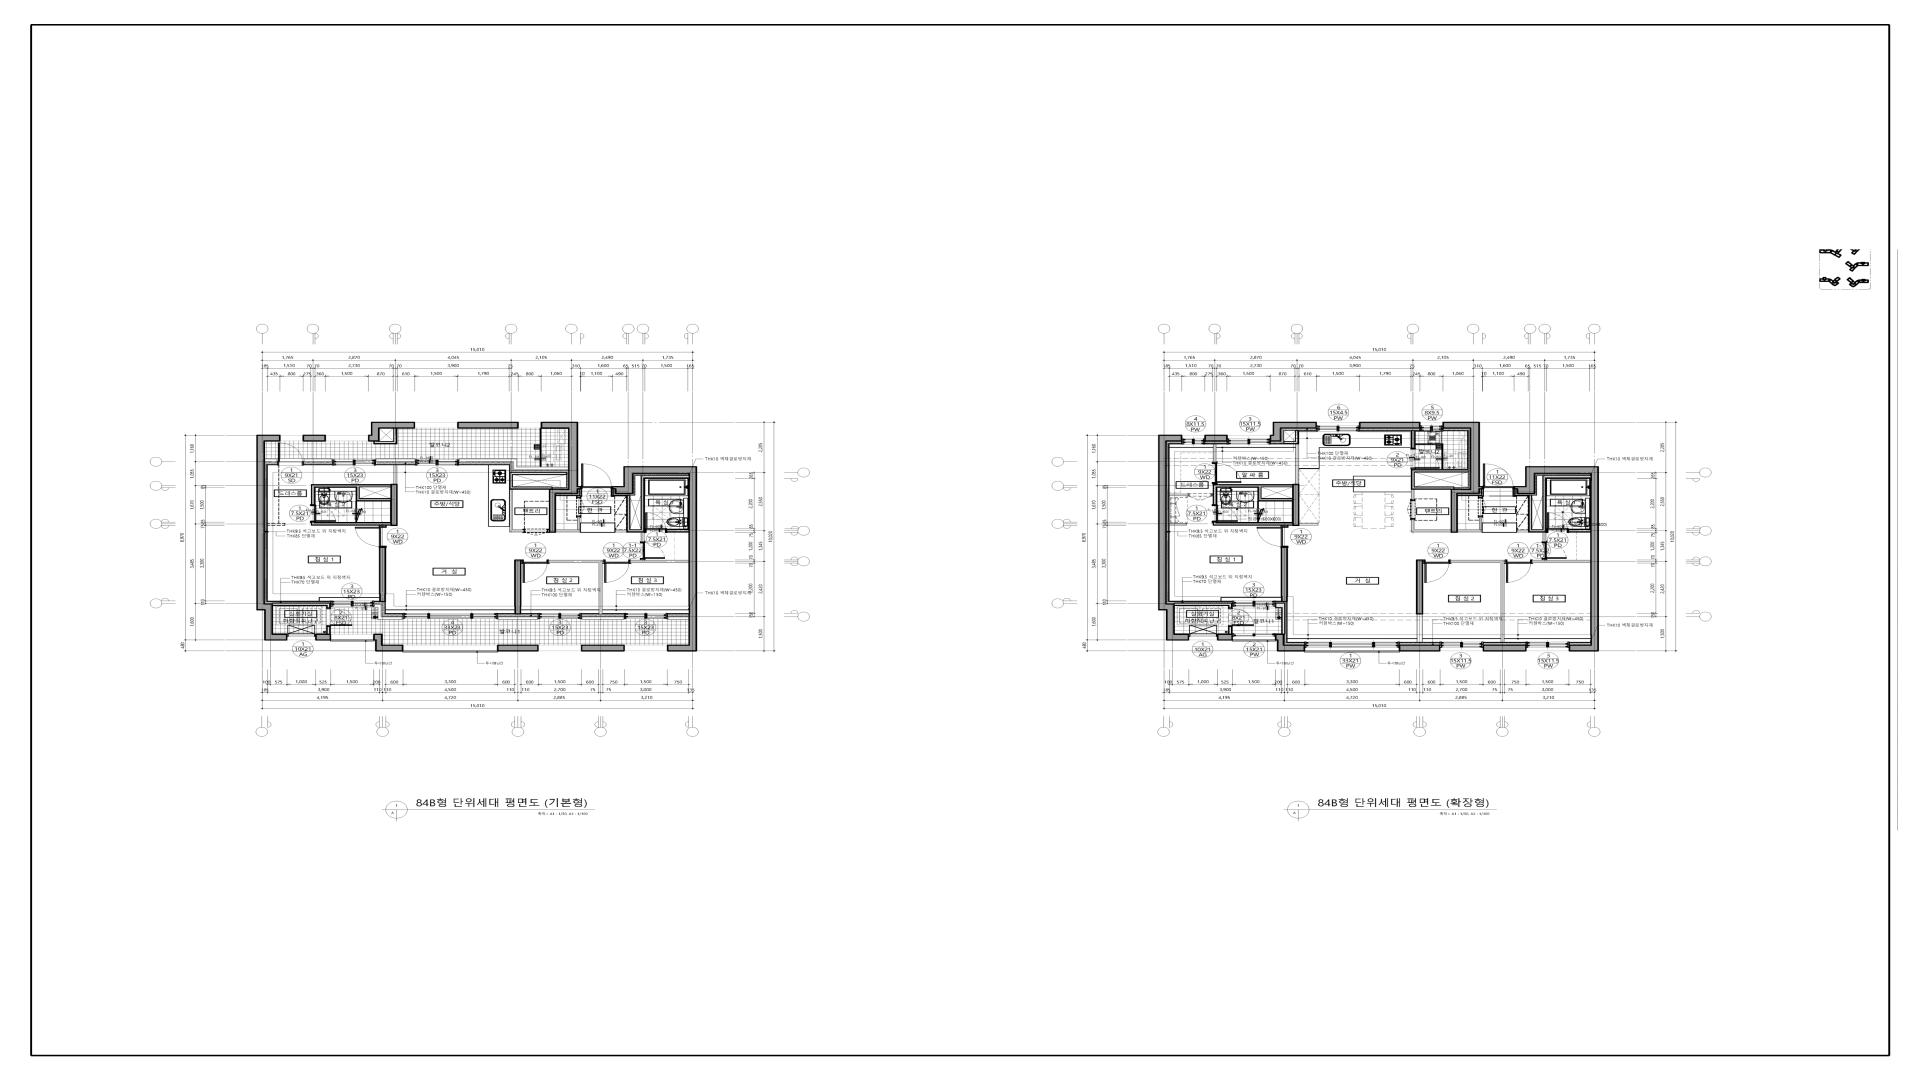door: (1484, 463, 1514, 489), (582, 463, 612, 489), (1257, 526, 1288, 547), (355, 526, 386, 547), (1423, 559, 1451, 583), (1505, 559, 1532, 583), (521, 559, 549, 583), (603, 559, 630, 583), (277, 442, 303, 465), (1212, 463, 1241, 484), (1411, 448, 1440, 469), (1228, 608, 1254, 626), (310, 504, 336, 522), (1547, 512, 1569, 533), (1542, 542, 1567, 560), (640, 542, 665, 560), (1212, 505, 1238, 522), (645, 513, 667, 533), (1188, 493, 1213, 501), (524, 529, 549, 535), (1407, 500, 1415, 520), (1478, 497, 1486, 517)
wall: (612, 467, 698, 651), (1514, 467, 1600, 651), (256, 435, 287, 641), (1158, 435, 1189, 641), (1518, 475, 1590, 542), (541, 422, 582, 533), (1443, 422, 1484, 533), (1451, 560, 1505, 642), (616, 476, 688, 533), (509, 472, 567, 533), (549, 560, 603, 615), (1411, 469, 1469, 500), (311, 484, 390, 505), (1213, 484, 1292, 505), (459, 459, 568, 469), (368, 422, 415, 442), (1270, 422, 1317, 442), (1283, 430, 1299, 484), (1411, 520, 1451, 533), (373, 634, 404, 651), (1275, 634, 1305, 651), (375, 604, 402, 620), (1280, 547, 1288, 603), (378, 547, 386, 601), (458, 422, 518, 429), (1360, 422, 1420, 429), (1458, 517, 1482, 533), (373, 429, 397, 444), (556, 517, 580, 533), (514, 559, 521, 615), (1416, 559, 1423, 615), (390, 484, 398, 526), (1275, 603, 1286, 634), (311, 522, 390, 526), (1213, 522, 1292, 526), (273, 603, 331, 608), (1175, 603, 1233, 608), (1482, 645, 1527, 651), (582, 645, 625, 651), (497, 645, 539, 651), (1292, 484, 1299, 526), (1399, 645, 1440, 651), (1416, 615, 1423, 642), (302, 435, 326, 442), (1204, 435, 1228, 442), (630, 560, 688, 563), (1532, 560, 1590, 563), (582, 617, 624, 620), (315, 634, 331, 641), (376, 459, 415, 462), (498, 617, 538, 620), (1217, 634, 1233, 641), (1411, 430, 1416, 448), (1569, 529, 1590, 533), (667, 529, 688, 533), (303, 459, 332, 462), (1213, 444, 1217, 463), (667, 617, 688, 620), (641, 533, 645, 542), (1228, 626, 1233, 633), (265, 459, 277, 462), (327, 626, 331, 634), (1170, 495, 1188, 496), (1170, 524, 1187, 525), (1478, 496, 1484, 497), (578, 496, 580, 497)
window: (404, 645, 497, 653), (402, 613, 498, 620), (1305, 642, 1399, 647), (1305, 647, 1399, 653), (1440, 642, 1484, 651), (1228, 435, 1270, 444), (1317, 422, 1360, 431), (1527, 642, 1569, 651), (1233, 633, 1275, 641), (538, 613, 582, 620), (624, 613, 667, 620), (332, 459, 376, 465), (415, 459, 459, 465), (331, 600, 375, 607), (1233, 600, 1275, 607), (625, 645, 667, 651), (415, 422, 458, 429), (331, 634, 373, 641), (539, 645, 582, 651), (326, 435, 368, 440), (1420, 422, 1443, 431), (1183, 435, 1204, 444), (1189, 633, 1217, 640), (518, 422, 541, 429), (287, 634, 315, 640), (281, 435, 302, 440)
